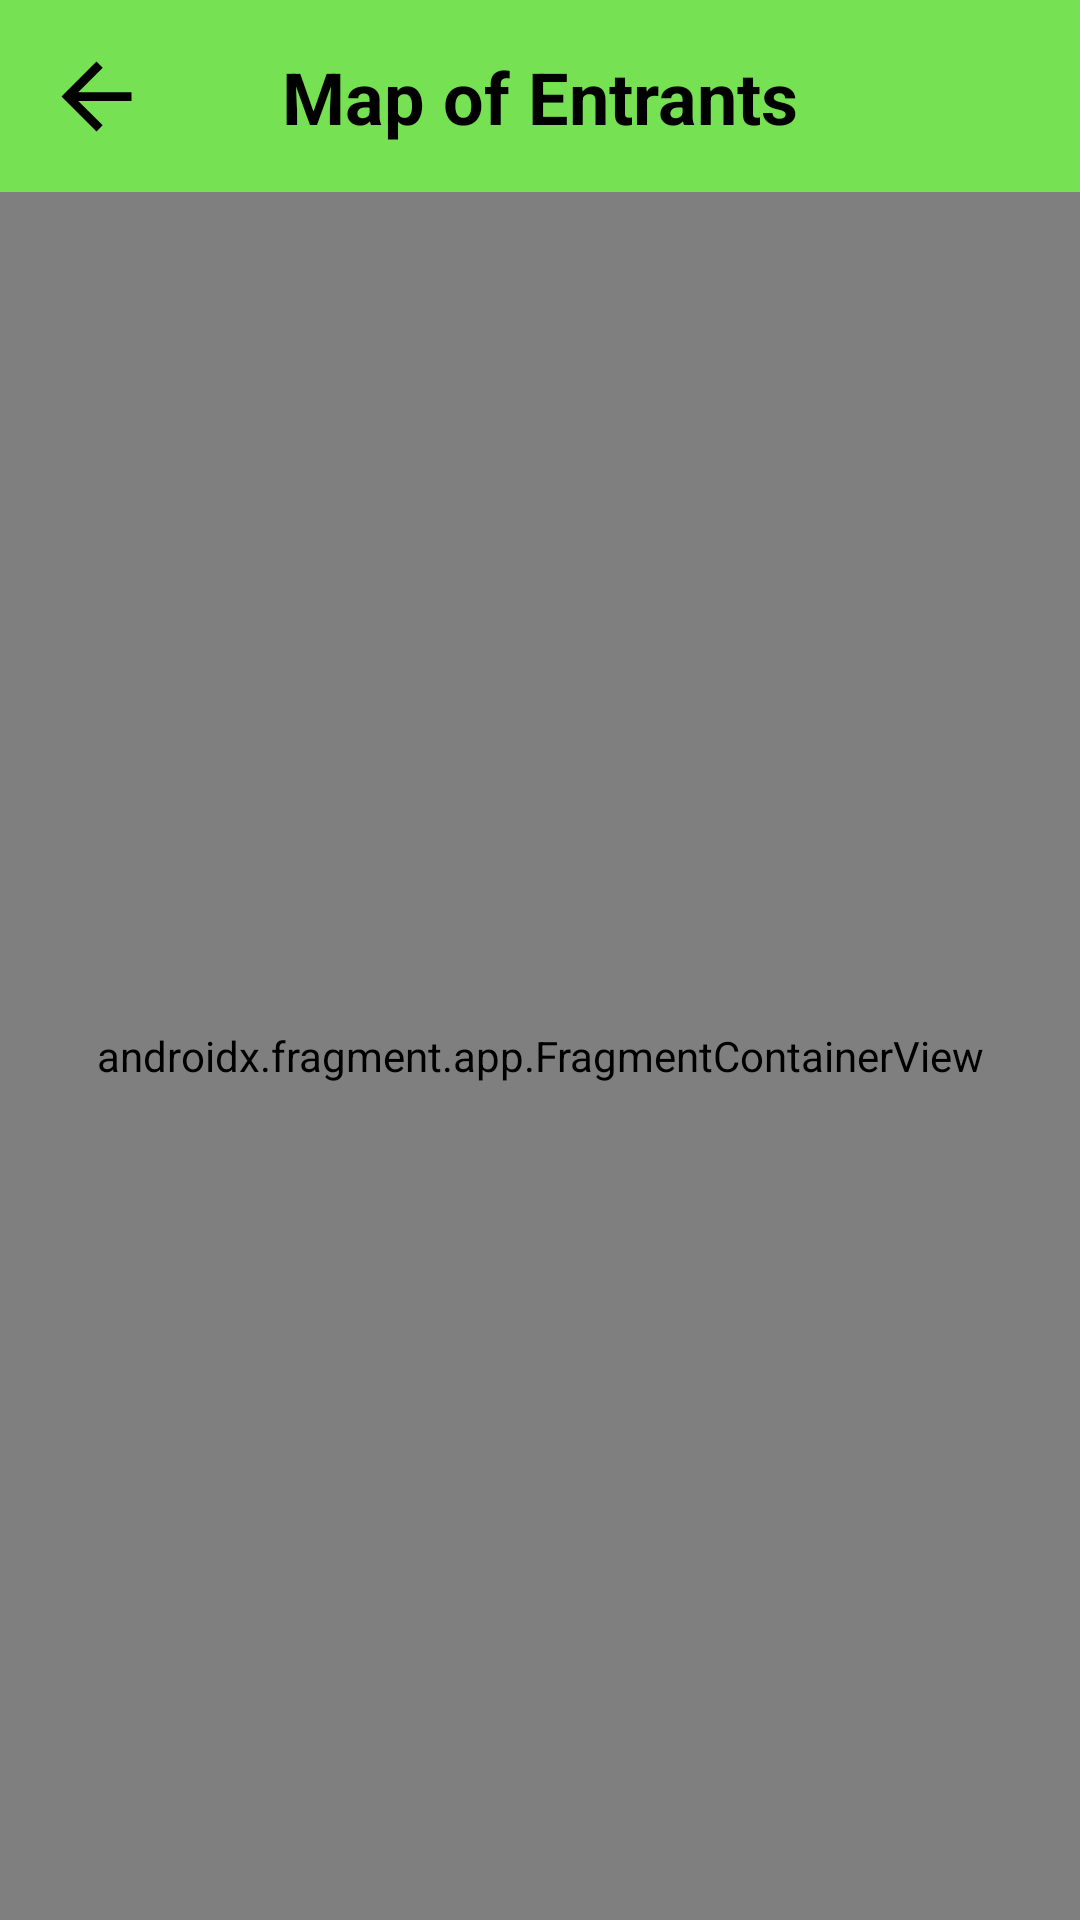

Screen size 1080×1920. Icon name, then its box in pixels as [x1=x1, y1=y1, x2=x2, y2=y2]:
Go Back: [x1=61, y1=61, x2=132, y2=132]
